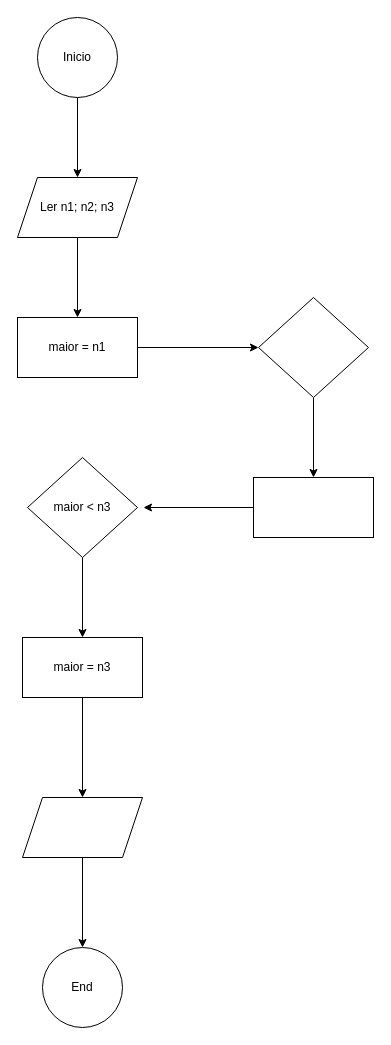
This 391x1045 diagram has some shape labels left out. Each missing label, with the centre of its shape:
"maior = n2" belongs at pixel 313 507.
"Maior<n2" belongs at pixel 313 347.
"Mostrar maior" belongs at pixel 82 827.
